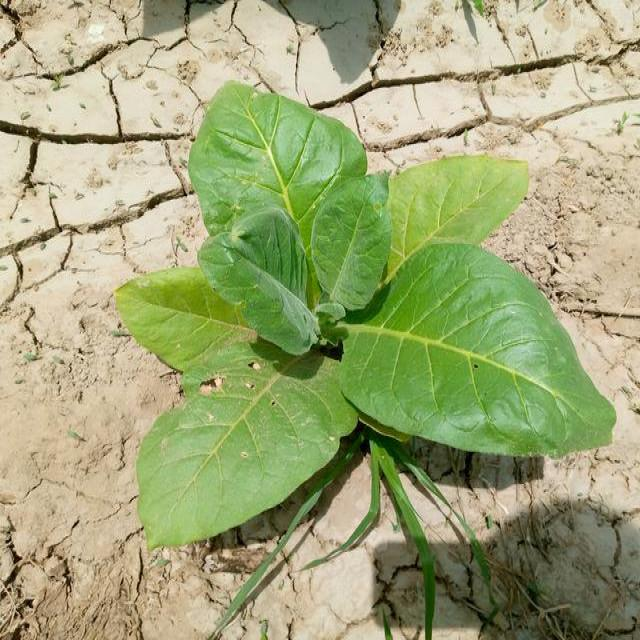crop: (132, 87, 606, 538)
